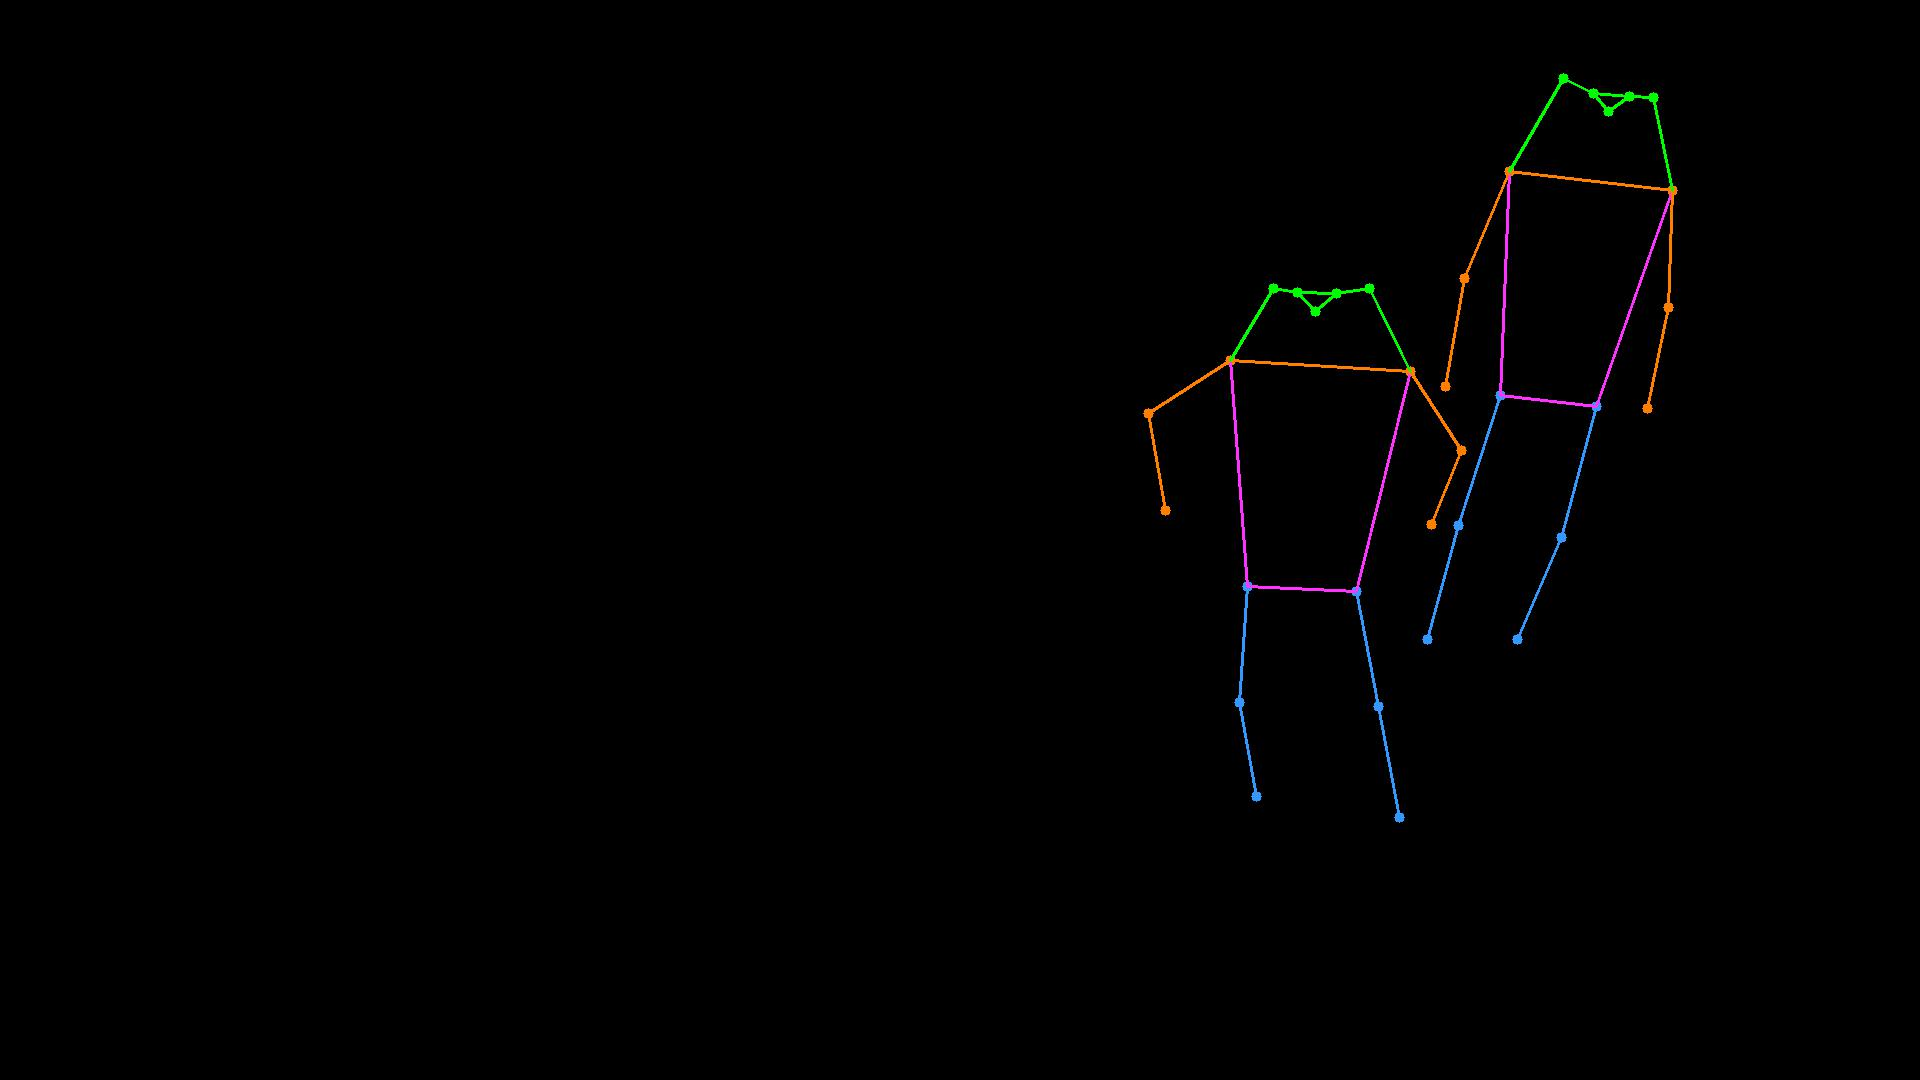normal: (1084, 47, 1768, 853)
